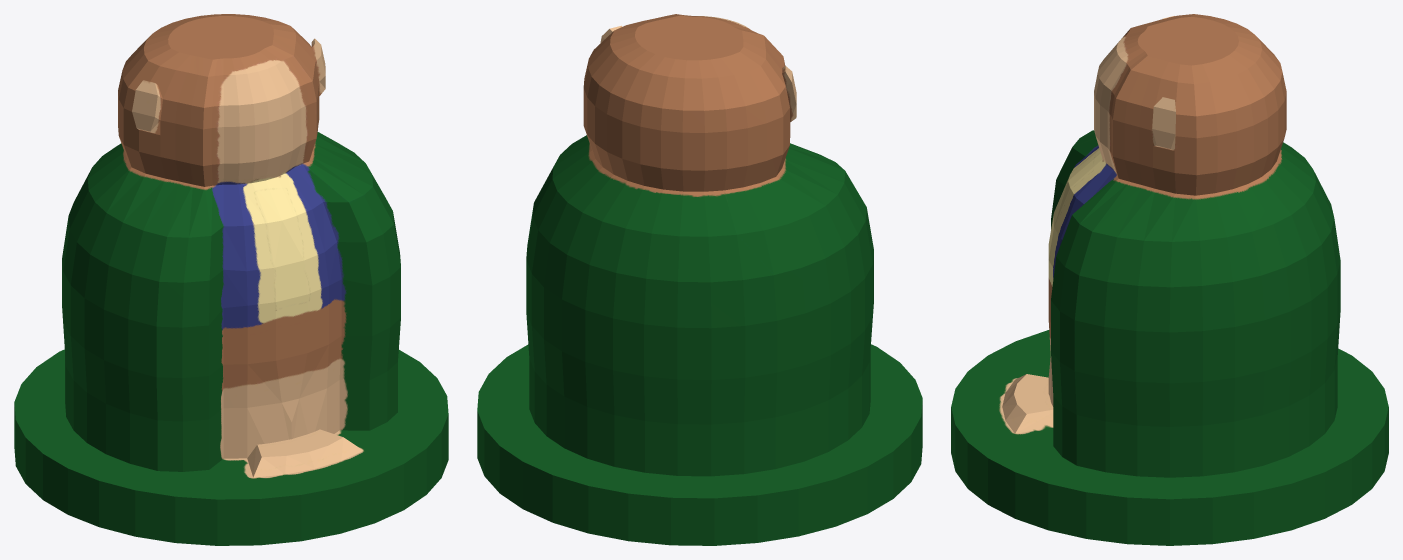
File: pippin.fbx
3 renders of one model, left to right at view 1: azimuth 30°, elevation 25°; view 2: azimuth 150°, elevation 25°; view 3: azimuth 270°, elevation 25°, orthographic. The views are drawn at different scales.
Parts seen in each view (by area): view 1: node_id5; view 2: node_id5; view 3: node_id5.
Part boxes in pixels (bbox=[...]): node_id5: bbox=[14, 14, 448, 545]; node_id5: bbox=[477, 14, 922, 545]; node_id5: bbox=[951, 14, 1388, 545].
Bounding box in the file's own units: 0.4925 × 0.512 × 0.4925.
1 material, 1 textured.
